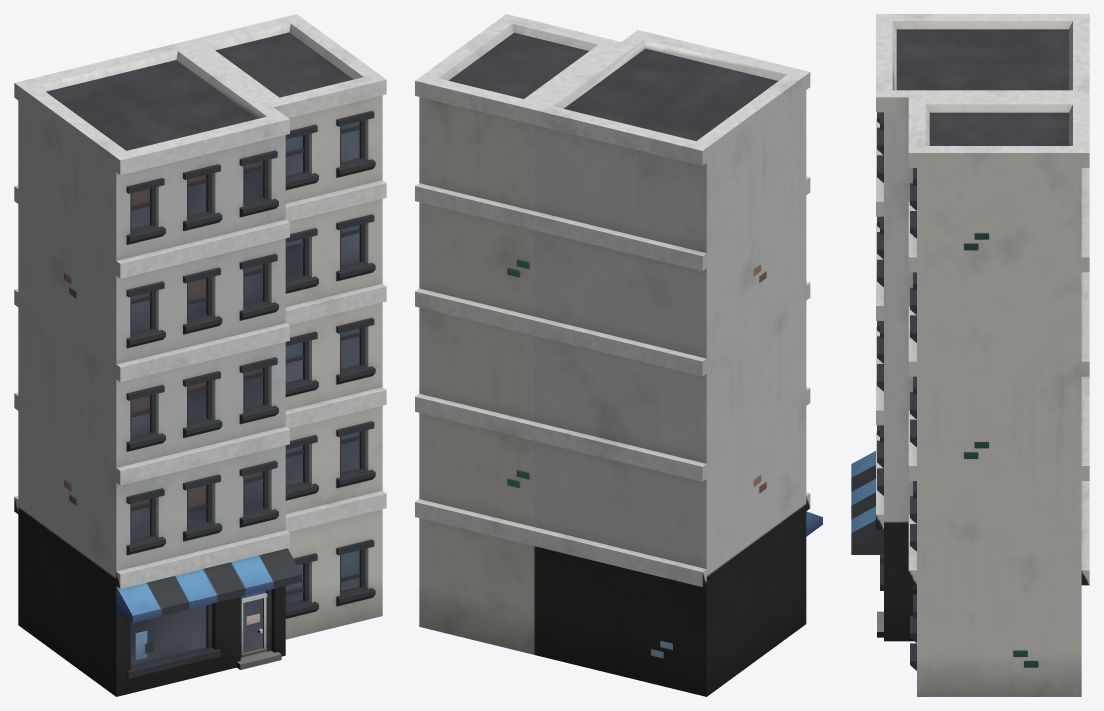
File: building_G_6f.glb
The picture shows the model from 3 angles, left to right: view 1: azimuth 30°, elevation 25°; view 2: azimuth 150°, elevation 25°; view 3: azimuth 270°, elevation 25°; orthographic projection.
Visible parts, largest first — view 1: ground; view 2: ground; view 3: ground.
Boxes of the visible parts, x1,y1,x2,y2 form: ground: (14, 14, 386, 696); ground: (415, 14, 822, 696); ground: (851, 14, 1089, 696).
Size of the model in its own units: 2.01 by 3.65 by 1.45.
2 materials, 2 textured.
